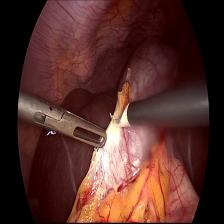Grasper: (40, 99, 108, 152)
Hook: (107, 101, 136, 133)
